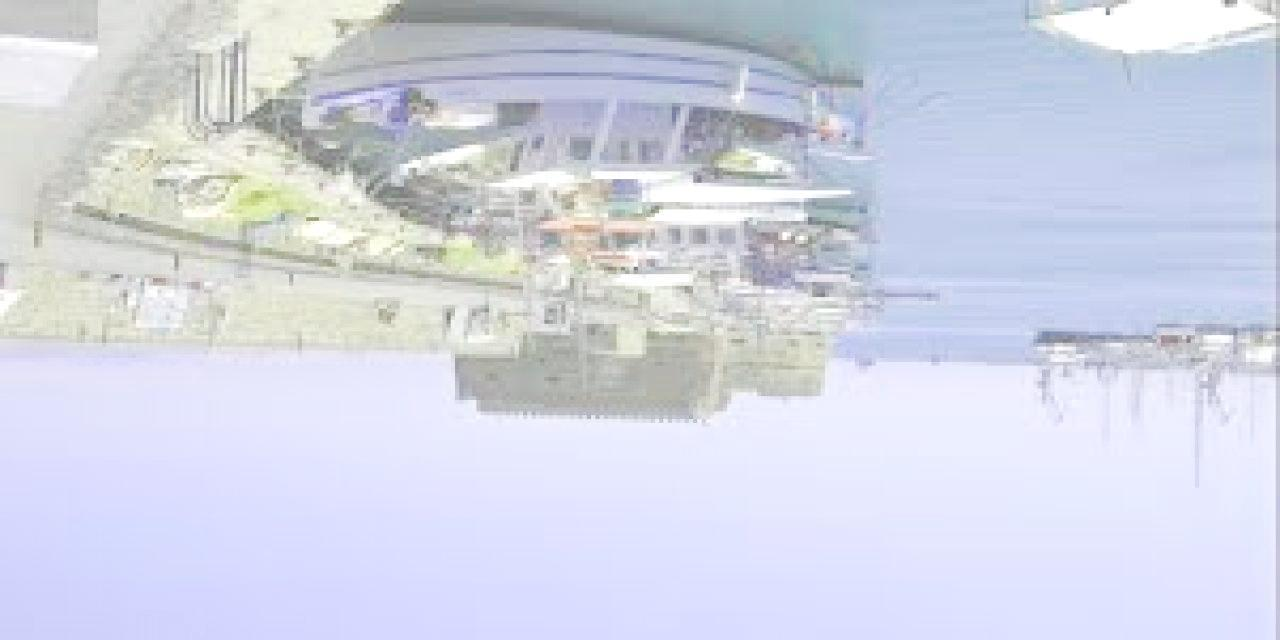Kules: (452, 320, 833, 419)
